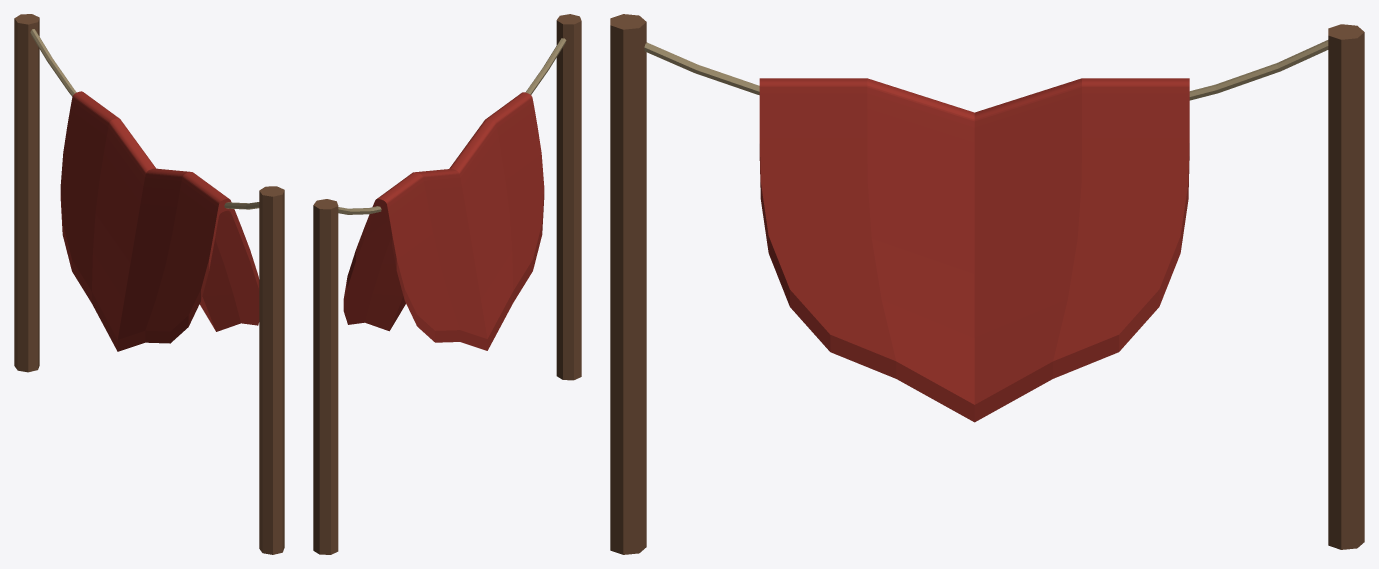
Rendered from jemuran2.fbx.
The picture shows the model from 3 angles, left to right: view 1: azimuth 30°, elevation 25°; view 2: azimuth 150°, elevation 25°; view 3: azimuth 270°, elevation 25°; orthographic projection. The views are drawn at different scales.
Visible parts, largest first — view 1: Cylinder.004; view 2: Cylinder.004; view 3: Cylinder.004.
Part boxes in pixels (bbox=[...]): Cylinder.004: bbox=[14, 14, 284, 554]; Cylinder.004: bbox=[313, 14, 581, 554]; Cylinder.004: bbox=[610, 14, 1364, 554].
Size of the model in its own units: 74.16 by 257 by 335.
